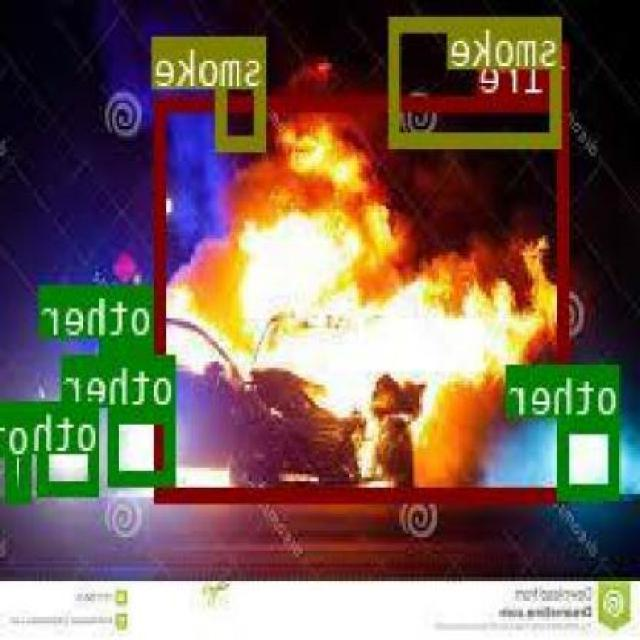Fire: (158, 94, 572, 498)
Smoke: (391, 15, 564, 144), (218, 34, 267, 148)
